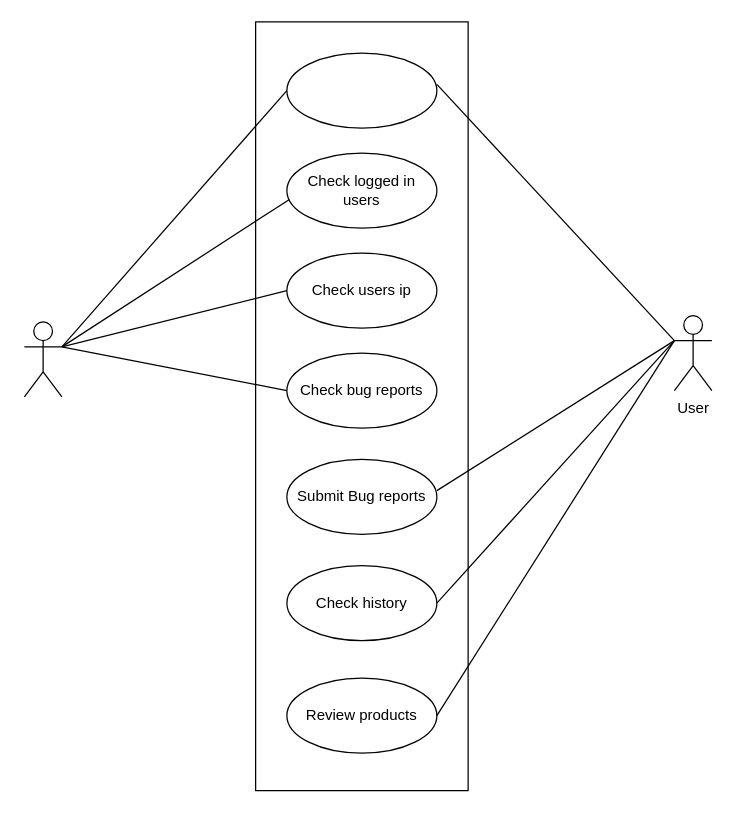
Some shapes in this 734 by 813 pixel diagram are drawn without their labels. The box of each missing label's shape, as (x1, y1, x2, y2) in pixels:
Admin: (23, 321, 62, 397)
Login/Logout: (286, 52, 437, 128)
